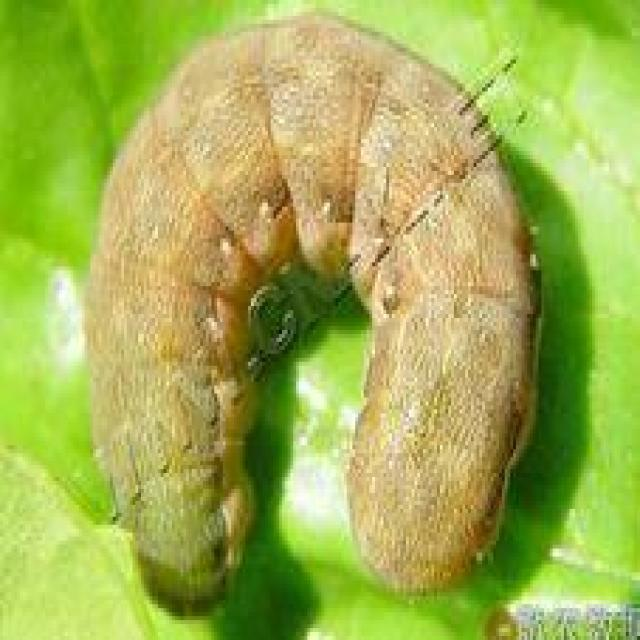BeetArmyWorm-Larva-: (76, 7, 551, 620)
